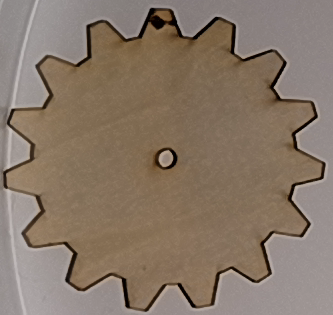Points: (146, 13, 178, 30)
